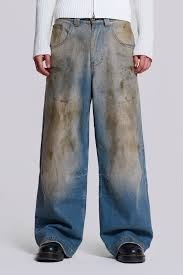earth: (106, 109, 135, 156), (45, 101, 68, 159)
